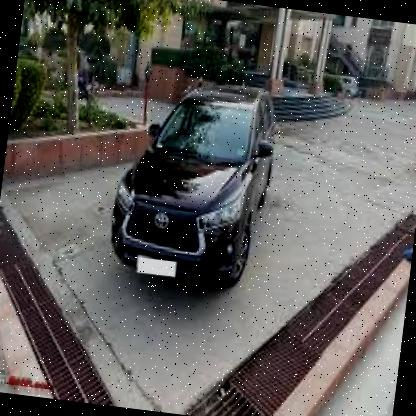car: (97, 65, 290, 305)
